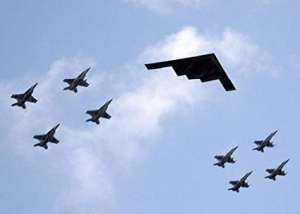flight: (10, 81, 40, 110), (84, 97, 114, 125), (32, 123, 61, 150), (62, 66, 92, 92), (251, 129, 279, 153), (212, 145, 239, 168), (227, 170, 254, 193), (264, 158, 290, 181)
